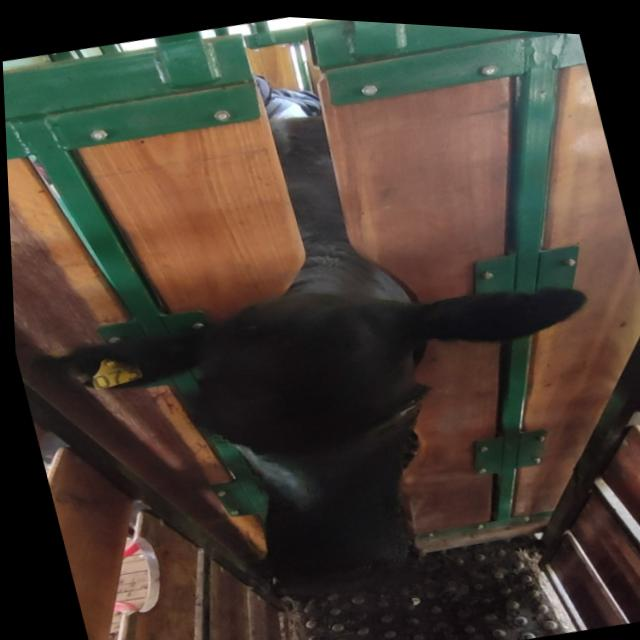cowFace: (160, 269, 466, 613)
